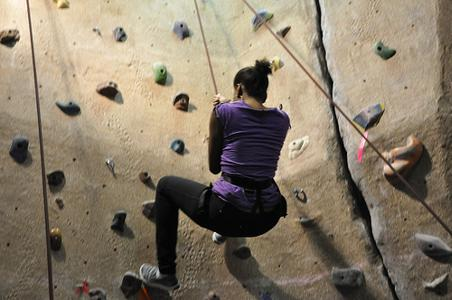person: (138, 58, 290, 294)
